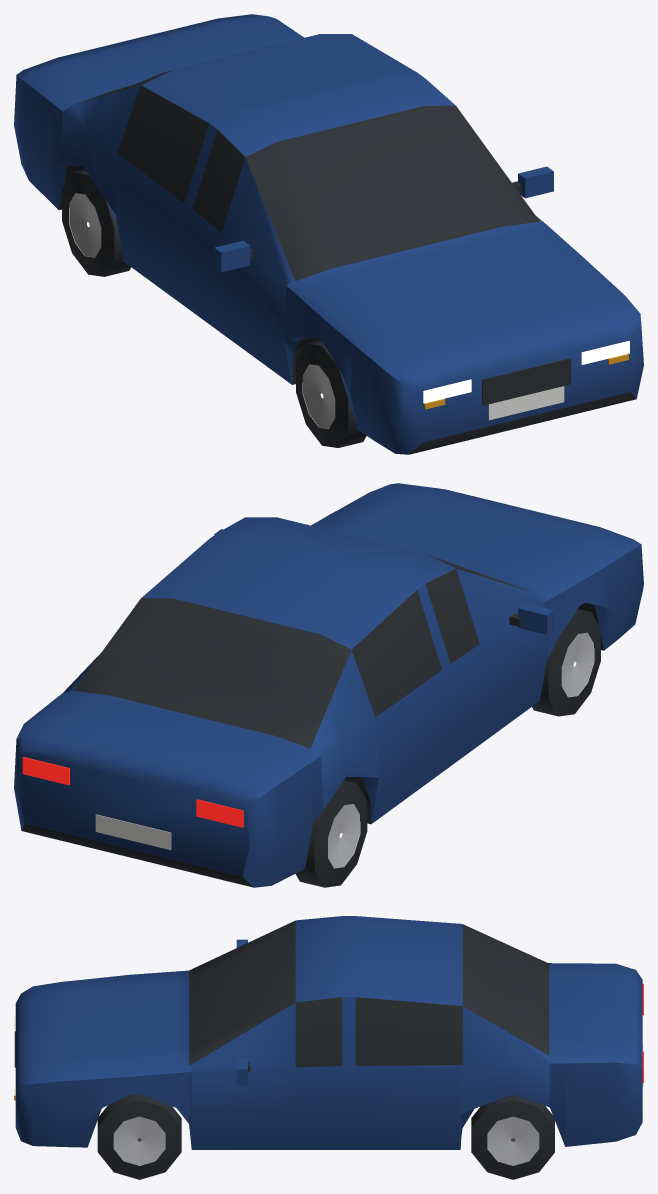
File: sedan_blue_lod1.glb
The picture shows the model from 3 angles, top to bottom: view 1: azimuth 30°, elevation 25°; view 2: azimuth 150°, elevation 25°; view 3: azimuth 270°, elevation 25°; orthographic projection. The views are drawn at different scales.
Parts seen in each view (by area): view 1: sedan_blue_lod1; view 2: sedan_blue_lod1; view 3: sedan_blue_lod1.
Part boxes in pixels (x1=…): sedan_blue_lod1: x1=14, y1=14, x2=643, y2=454; sedan_blue_lod1: x1=14, y1=483, x2=643, y2=887; sedan_blue_lod1: x1=14, y1=916, x2=643, y2=1179.
Size of the model in its own units: 0.115 by 0.0745 by 0.2361.
